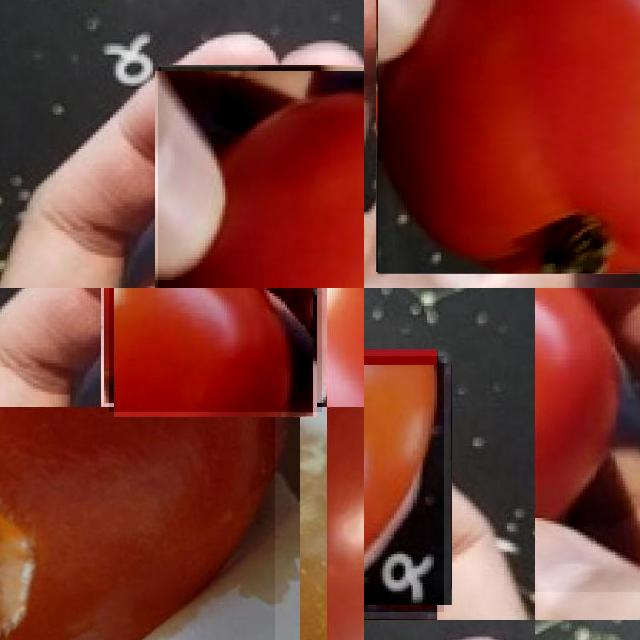Fresh Tomato: (377, 0, 640, 273), (158, 67, 364, 288), (535, 288, 640, 592), (109, 288, 322, 412), (364, 356, 444, 612)
Rotten Tomato: (0, 407, 275, 640)
